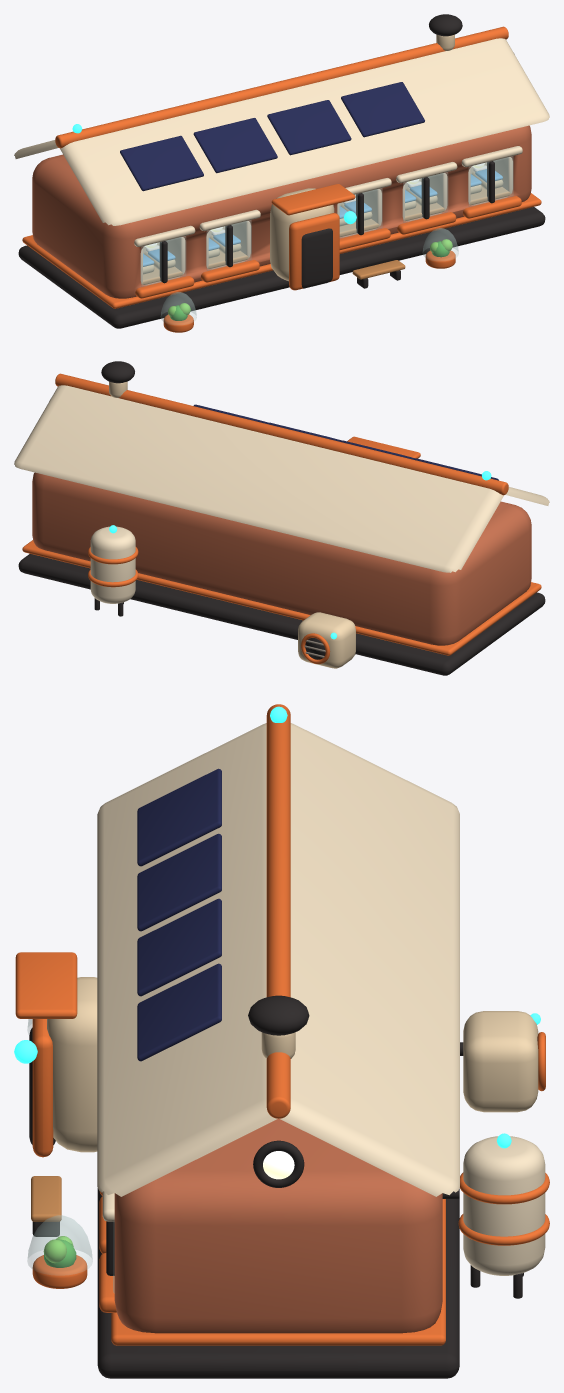
File: brickhome-10i.glb
3 renders of one model, top to bottom at view 1: azimuth 30°, elevation 25°; view 2: azimuth 150°, elevation 25°; view 3: azimuth 270°, elevation 25°, orthographic. The views are drawn at different scales.
Visible parts, largest first — view 1: Cube.016, Cube.001, Cube.002, Cube, Cube.078, Cube.013, Cube.007, Cube.003, Cube.004, Cube.008, Cube.088; view 2: Cube.016, Cube.001, Cube.002, Cube, Cube.007, Cube.078; view 3: Cube.016, Cube.001, Cube.002, Cube.078, Cube, Cube.007, Cube.013, Cube.088, Sphere.005.
Part boxes in pixels (left/top/right/bottom): Cube.016: left=14, top=38, right=549, bottom=246; Cube.001: left=32, top=125, right=531, bottom=298; Cube.002: left=22, top=26, right=541, bottom=332; Cube: left=18, top=14, right=545, bottom=328; Cube.078: left=120, top=82, right=424, bottom=191; Cube.013: left=141, top=156, right=513, bottom=324; Cube.007: left=143, top=34, right=503, bottom=281; Cube.003: left=140, top=157, right=512, bottom=283; Cube.004: left=142, top=187, right=510, bottom=284; Cube.008: left=143, top=169, right=502, bottom=266; Cube.088: left=352, top=260, right=405, bottom=279; Cube.016: left=14, top=385, right=549, bottom=603; Cube.001: left=32, top=472, right=531, bottom=645; Cube.002: left=22, top=373, right=541, bottom=663; Cube: left=18, top=361, right=545, bottom=675; Cube.007: left=109, top=381, right=355, bottom=668; Cube.078: left=193, top=404, right=498, bottom=480; Cube.016: left=97, top=723, right=545, bottom=1275; Cube.001: left=114, top=1118, right=442, bottom=1333; Cube.002: left=15, top=704, right=549, bottom=1345; Cube.078: left=137, top=768, right=221, bottom=1061; Cube: left=29, top=995, right=537, bottom=1378; Cube.007: left=47, top=977, right=538, bottom=1152; Cube.013: left=27, top=1019, right=114, bottom=1293; Cube.088: left=31, top=1176, right=61, bottom=1221; Sphere.005: left=14, top=706, right=540, bottom=1148.
Bounding box in the file's own units: 2.77 × 1.09 × 1.57.
